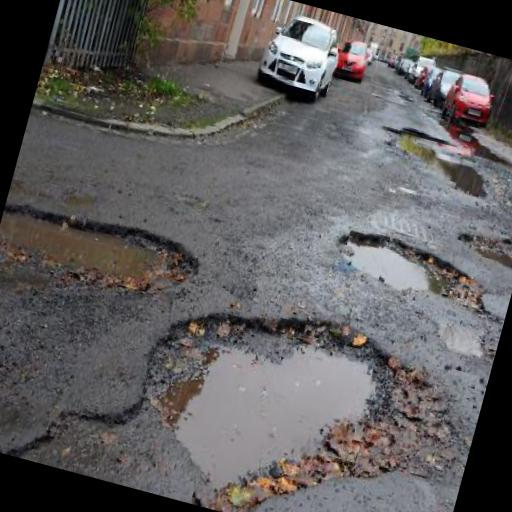pothole: (106, 268, 474, 512), (0, 188, 208, 315), (326, 218, 504, 322), (376, 118, 453, 168), (435, 152, 497, 204), (452, 222, 512, 274)
